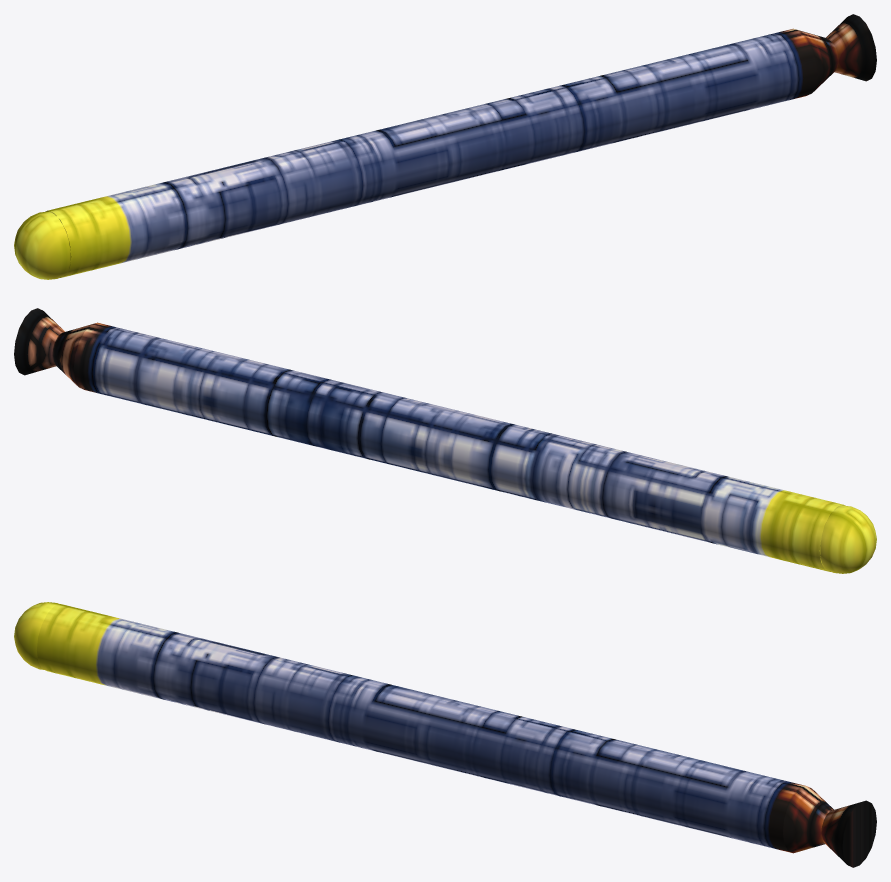
File: RocketBig.fbx
The picture shows the model from 3 angles, top to bottom: view 1: azimuth 30°, elevation 25°; view 2: azimuth 150°, elevation 25°; view 3: azimuth 330°, elevation 25°; orthographic projection.
Visible parts, largest first — view 1: RocketBig; view 2: RocketBig; view 3: RocketBig.
Part boxes in pixels (x1,y1,x2,y2): RocketBig: (14, 14, 876, 279); RocketBig: (14, 308, 876, 573); RocketBig: (14, 602, 876, 867).
Size of the model in its own units: 141 by 10 by 10.
1 material, 1 textured.
